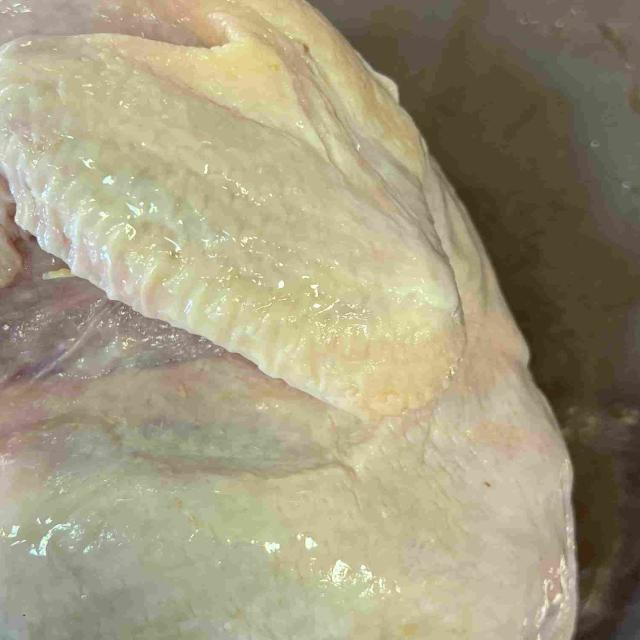leg: (0, 423, 281, 640)
wing: (0, 42, 461, 421)
